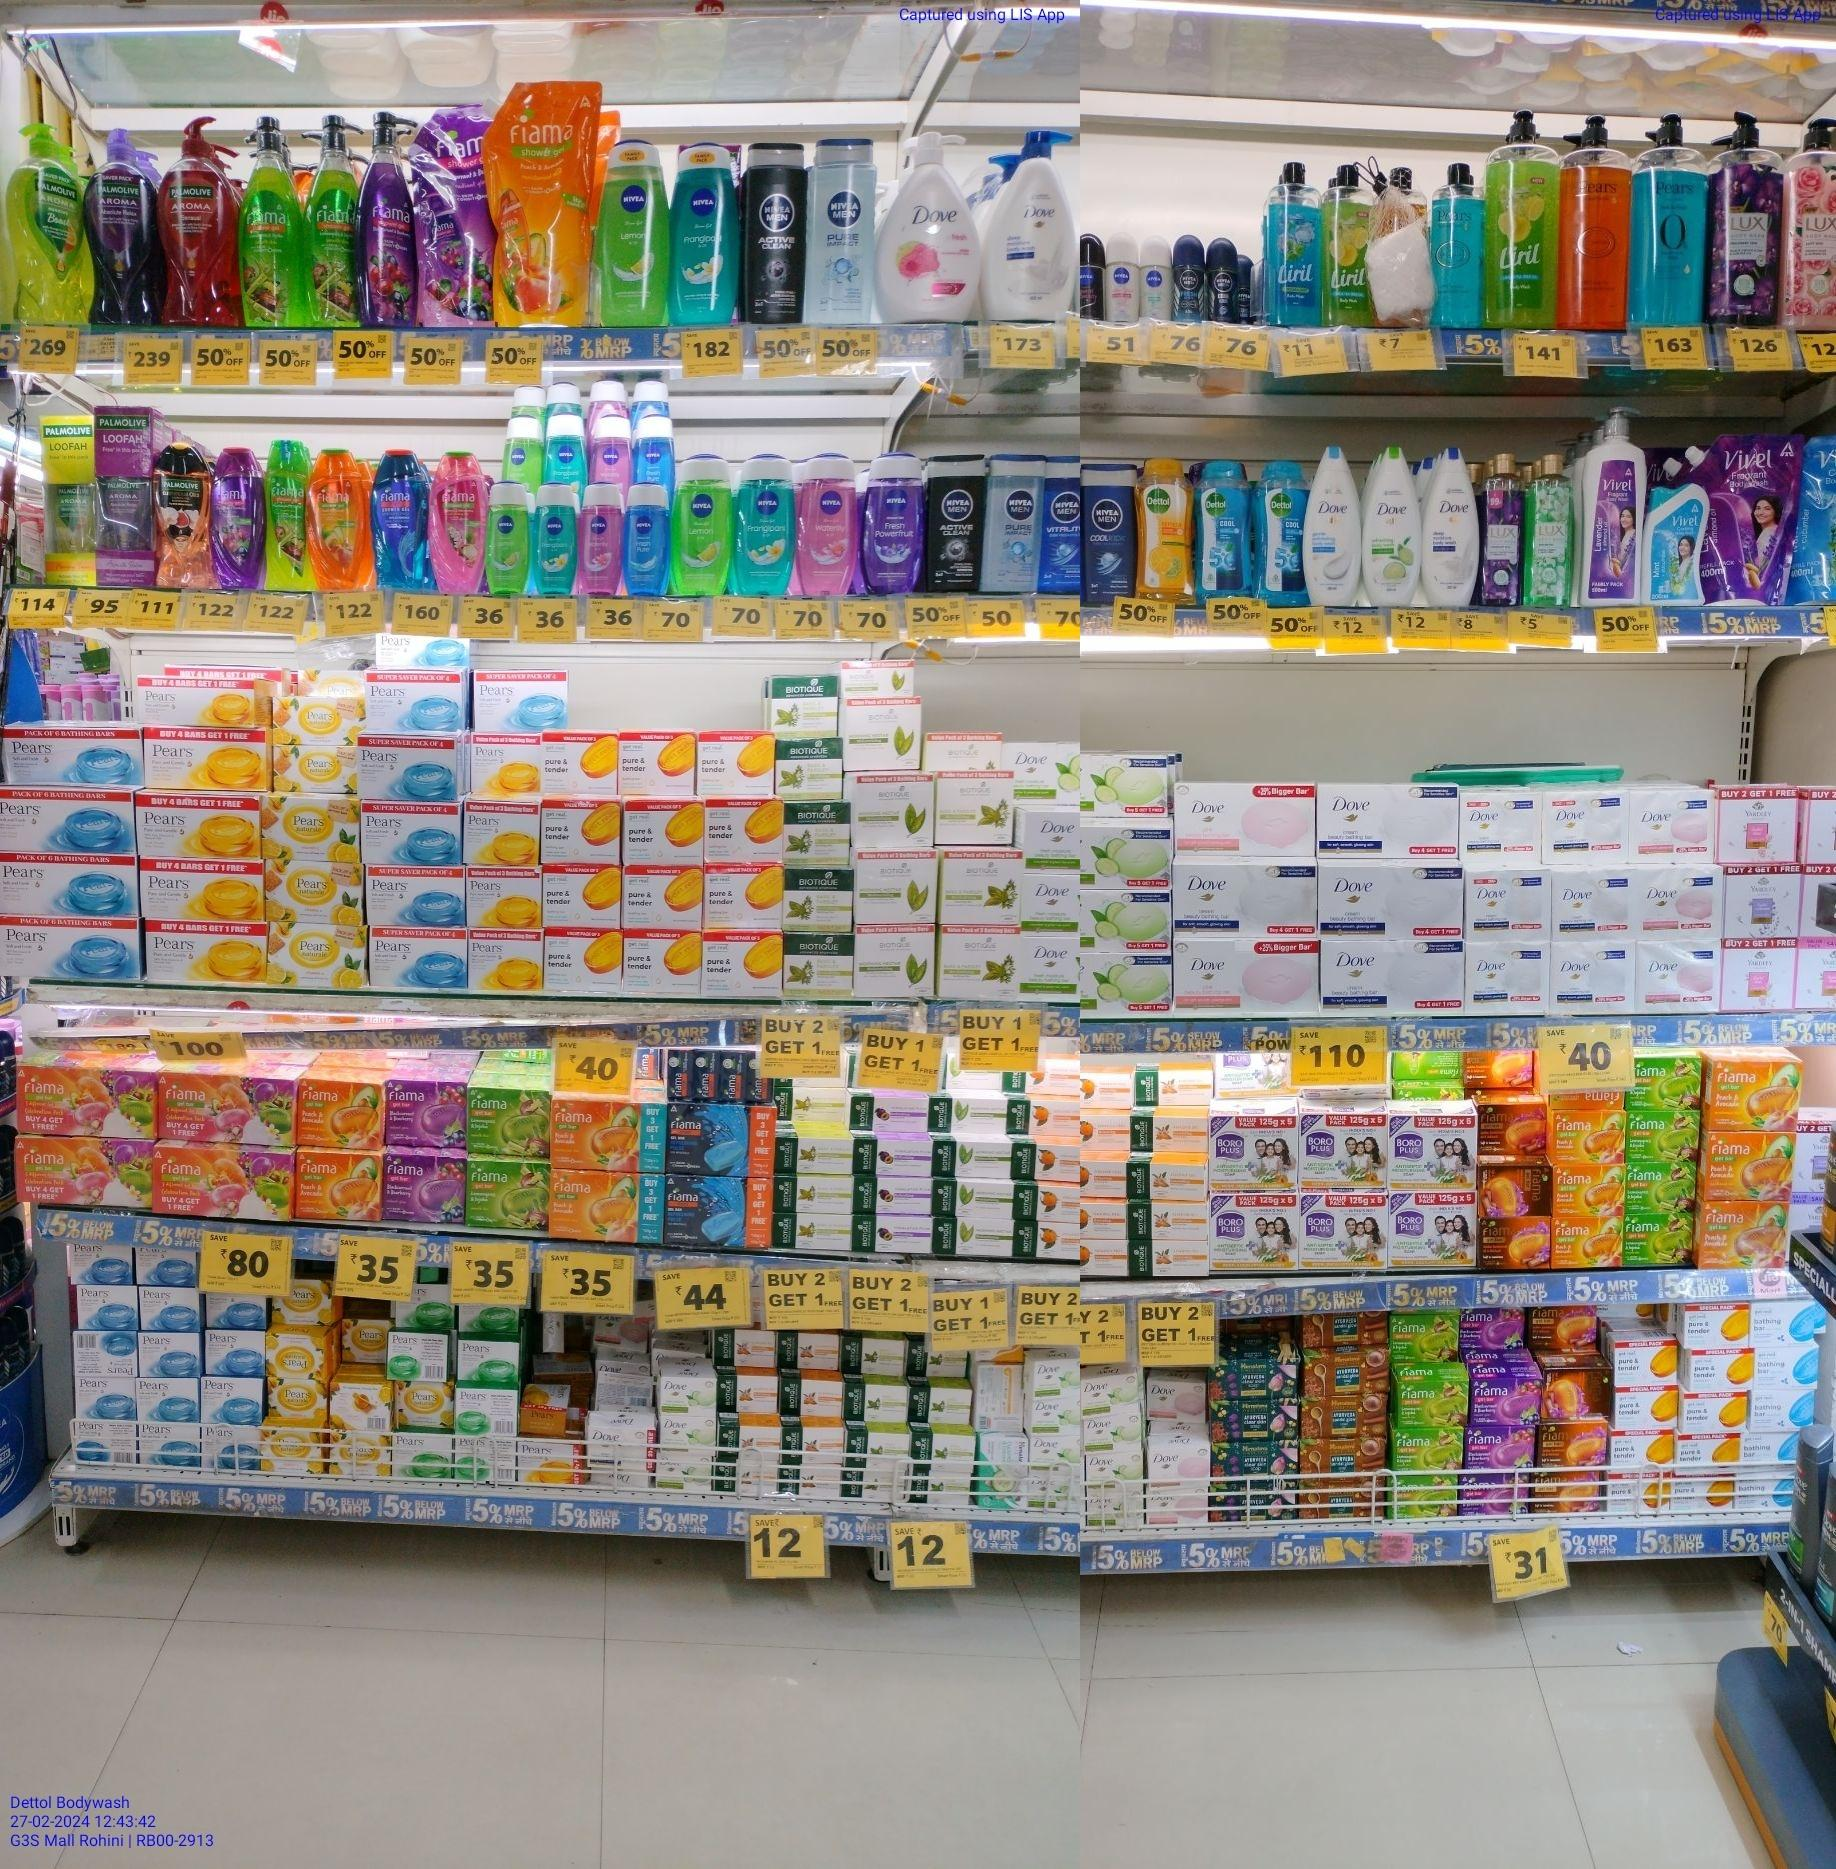Dettol_Bodywash_Cool: (1197, 461, 1253, 602), (1258, 455, 1303, 608)
Dettol_Bodywash_Refresh: (1135, 455, 1195, 610)
Dove_Deep_Moisture_Body_Wash_250ML: (1424, 442, 1475, 612)
Dove_Gentle_Exfoliating_Body_Wash_250ML: (1306, 444, 1359, 610)
Dove_Refreshing_Body_Wash_250ML: (1367, 444, 1419, 610)
Fiama_Shower_Gel_Patchouli_and_Macadamia_250ML: (432, 449, 486, 595)
Fiama_Shower_Gel_Peach_and_Avocado_250ML: (309, 447, 370, 595)
Liril_Cooling_Mint_Body_Wash_250ML: (1269, 163, 1323, 326)
Liril_Lime_and_Tea_Tree_Oil_Body_Wash_250ML: (1325, 156, 1372, 329)
Lux_Black_Orchid_Scent_and_Juniper_Oil_Body_Wash_245ML: (1483, 452, 1527, 613)
Lux_Body_Wash_Skin_Detox_Freesia_Scent_and_Alove_Vera_245ML: (1528, 449, 1574, 613)
Nivea_Shower_Gel_Frangipani_and_Oil_250ML: (671, 138, 738, 329), (738, 450, 795, 600)
Nivea_Shower_Gel_Fresh_Powerfruit_250ML: (864, 450, 923, 597)
Nivea_Shower_Gel_Lemon_and_Oil_250ML: (599, 138, 666, 329), (676, 452, 730, 597)
Nivea_Shower_Gel_Waterlily_and_Oil_250ML: (804, 450, 857, 598)
Palmolive_Luminous_Oils_With_White_Orchid_Shower_Gel_250ML: (155, 442, 212, 588)
Pears_Pure_Glycerin_and_Mint_Extracts_Body_Wash_250ML: (1432, 155, 1488, 328)
